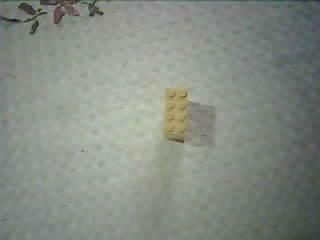lego: (161, 86, 191, 142)
